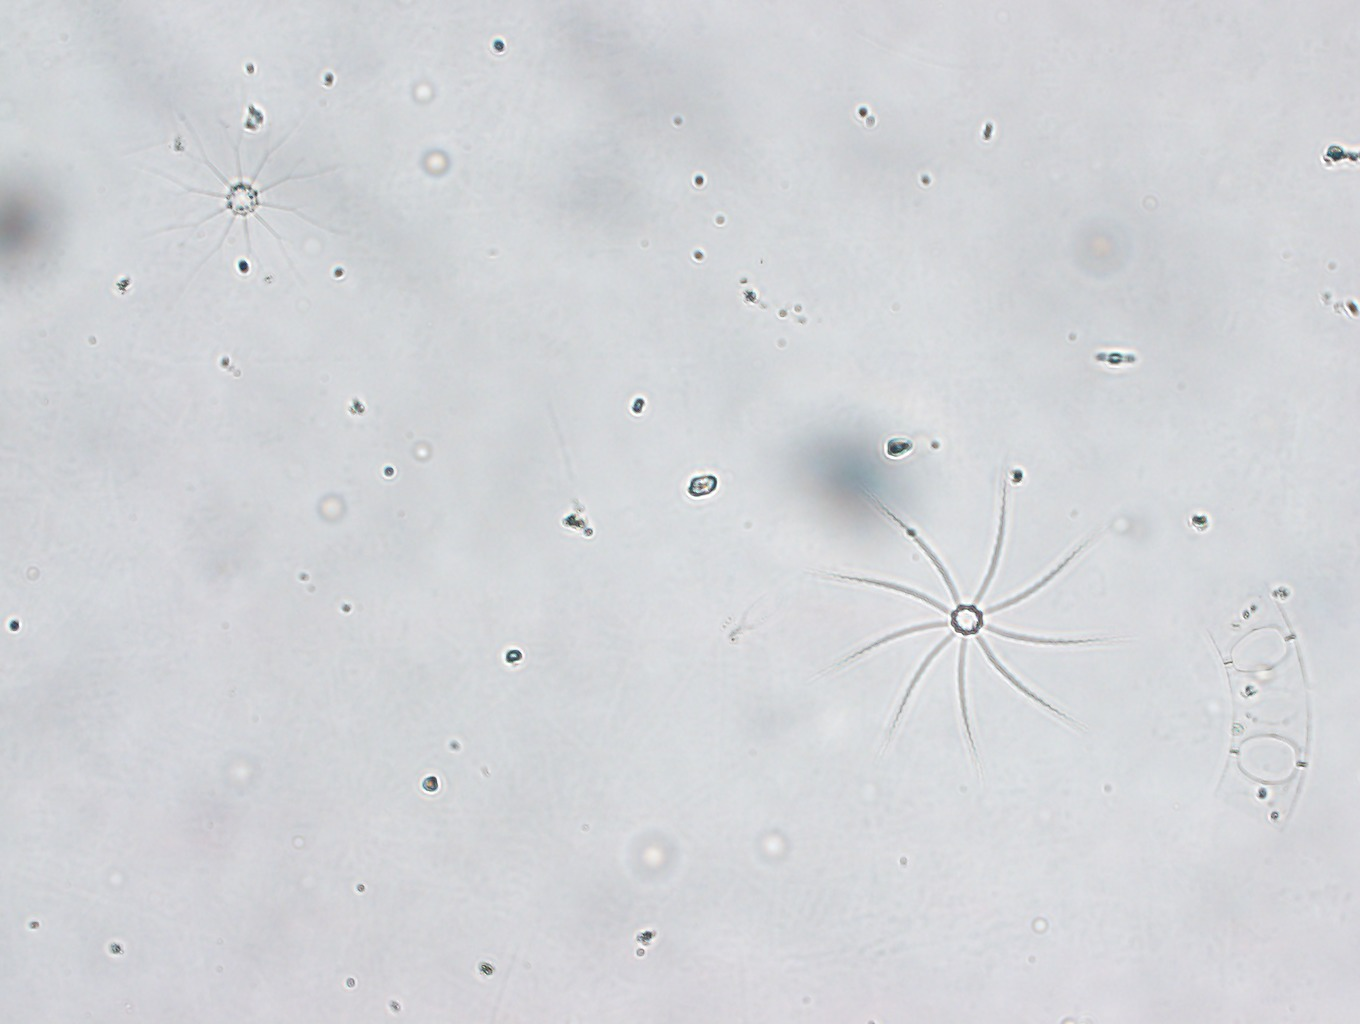bacteriastrum: (800, 450, 1119, 769), (129, 94, 355, 305)
eucampia: (1186, 574, 1317, 835)
